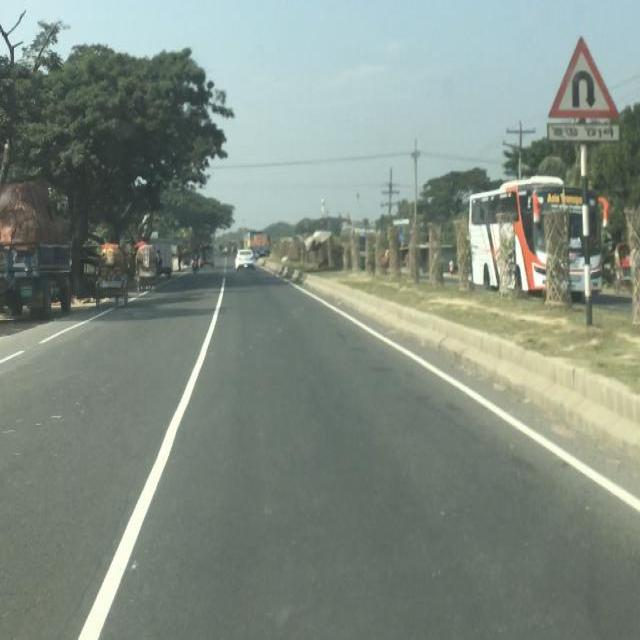10: (190, 247, 198, 271)
13: (92, 241, 130, 306), (610, 240, 636, 296), (133, 242, 159, 297)
18: (1, 238, 74, 316)
5: (230, 245, 256, 268)
Truck: (463, 175, 602, 298)
